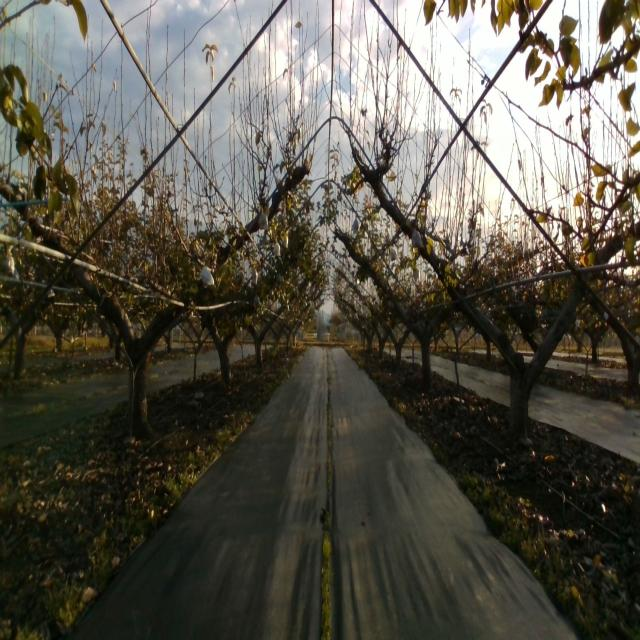pearbags: (201, 264, 214, 290), (411, 226, 424, 249), (258, 208, 269, 231)
